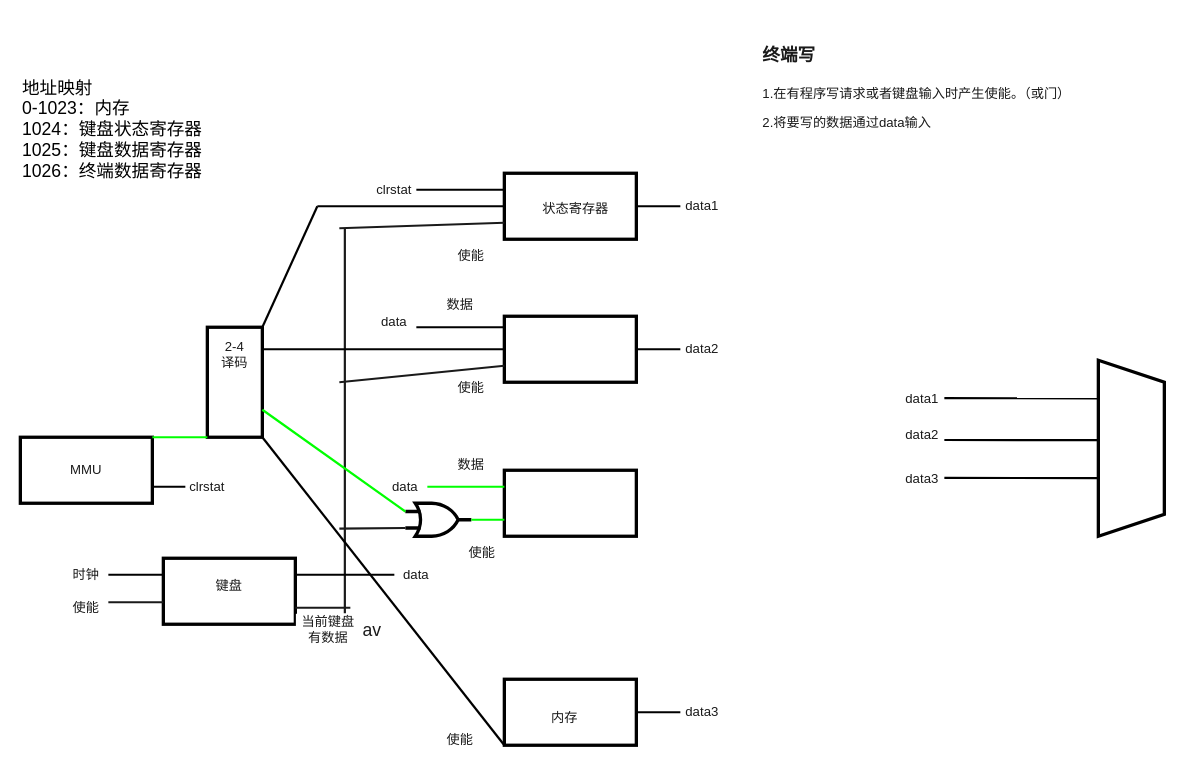
Image size: 1195x774. Some labels were removed from this diagram. The shapes that lost their labels are listed below. From the top down, each one's centre as x and y in pixels, then its label:
At [569,348]: "数据寄存器".
At [1130,447]: "数据 选择".
At [569,502]: "终端".
